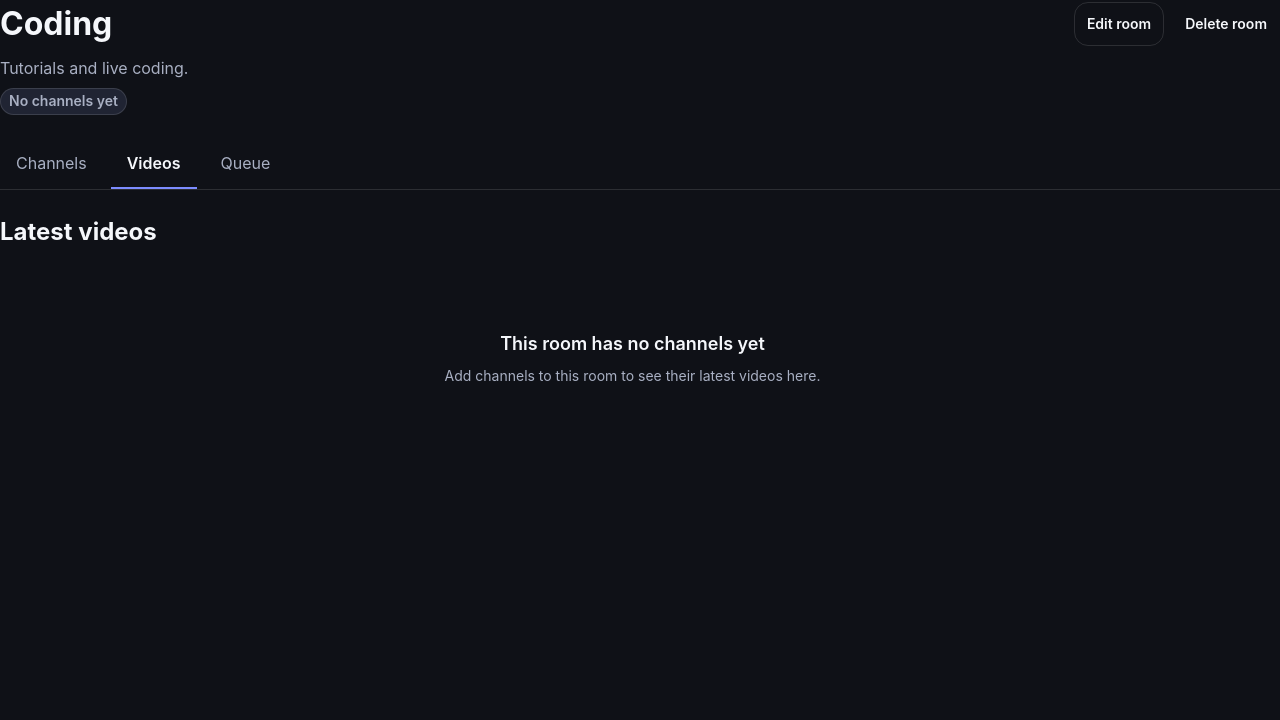
RoomDetailPage › edits a room name and description
Click the button "Edit room" at (1119,24), box [1074,2,1164,46]
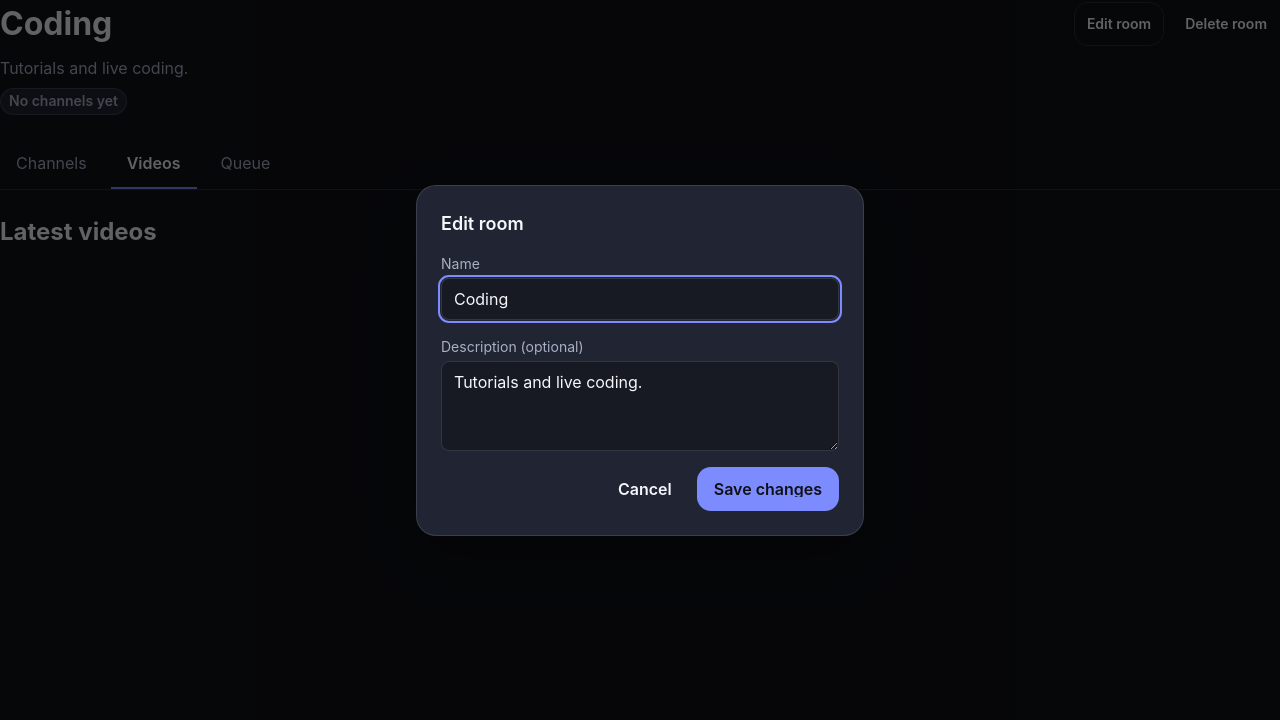
Replace the text in the field labelled "Name" with "Software" at (640,298), box [441,278,839,320]
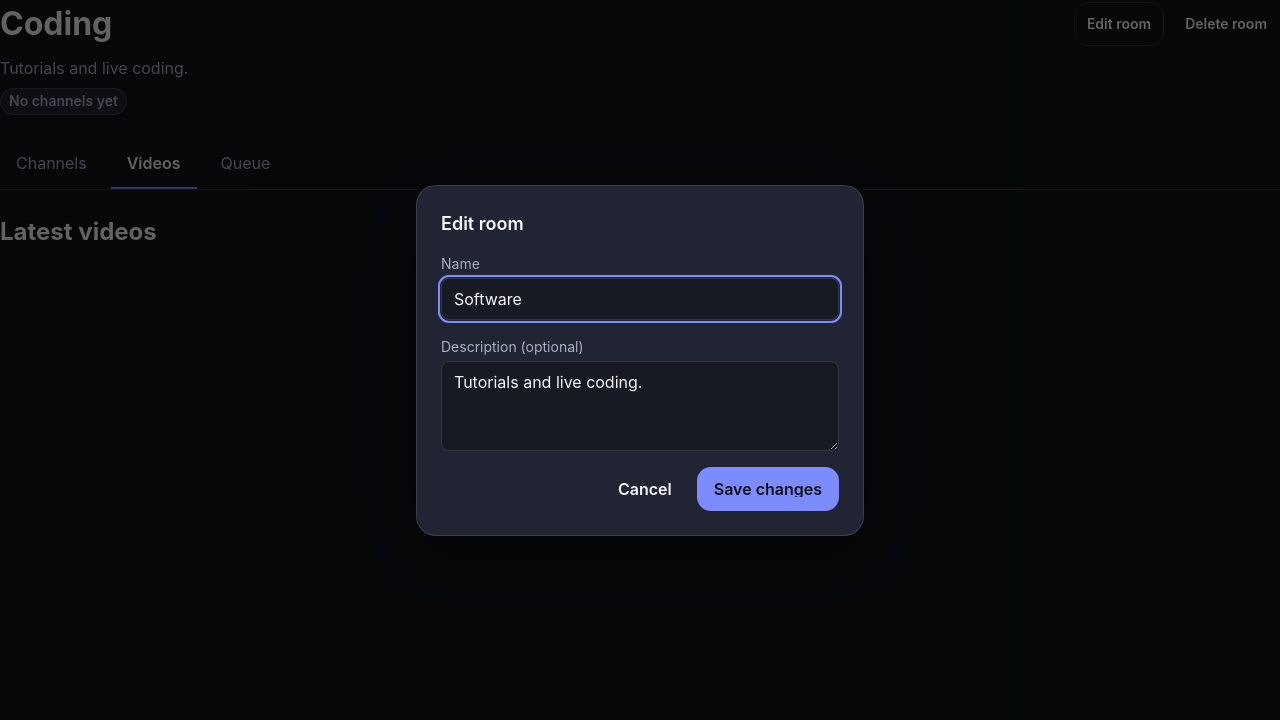
Click the button "Save changes" at (768,488), box [697,466,839,510]
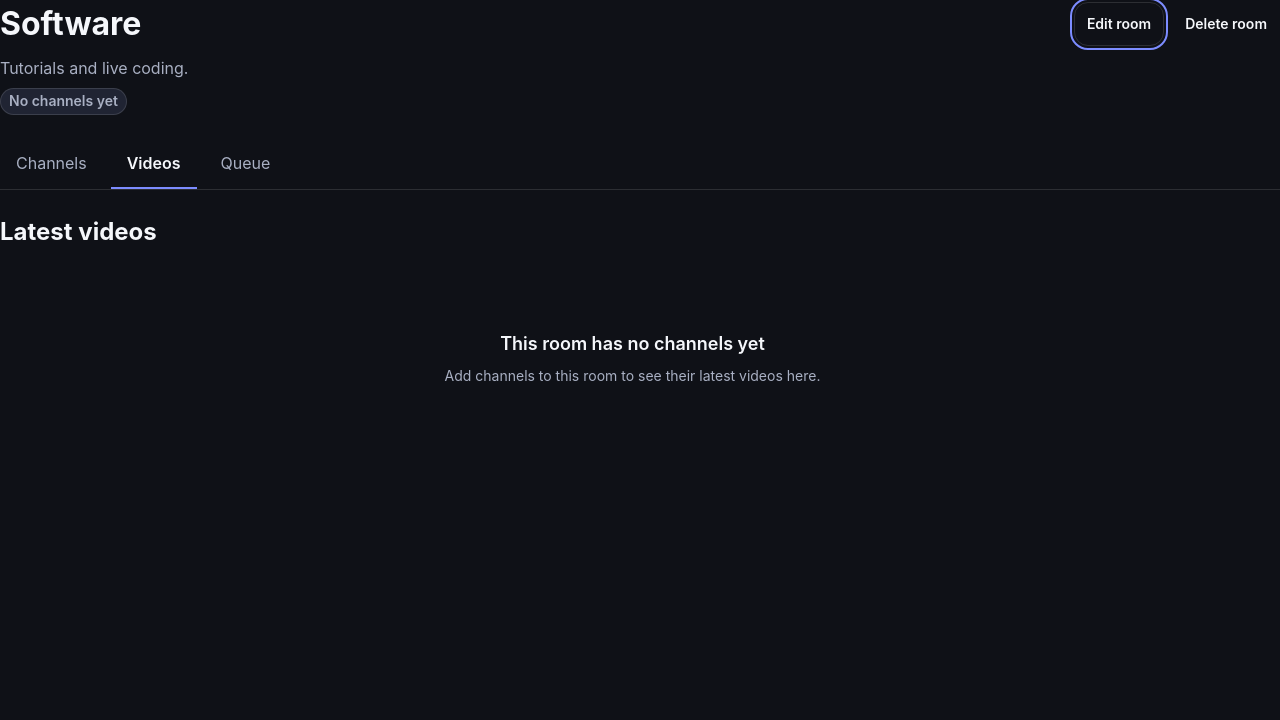
Check: the heading "Software" is shown, box [0,0,141,48]
